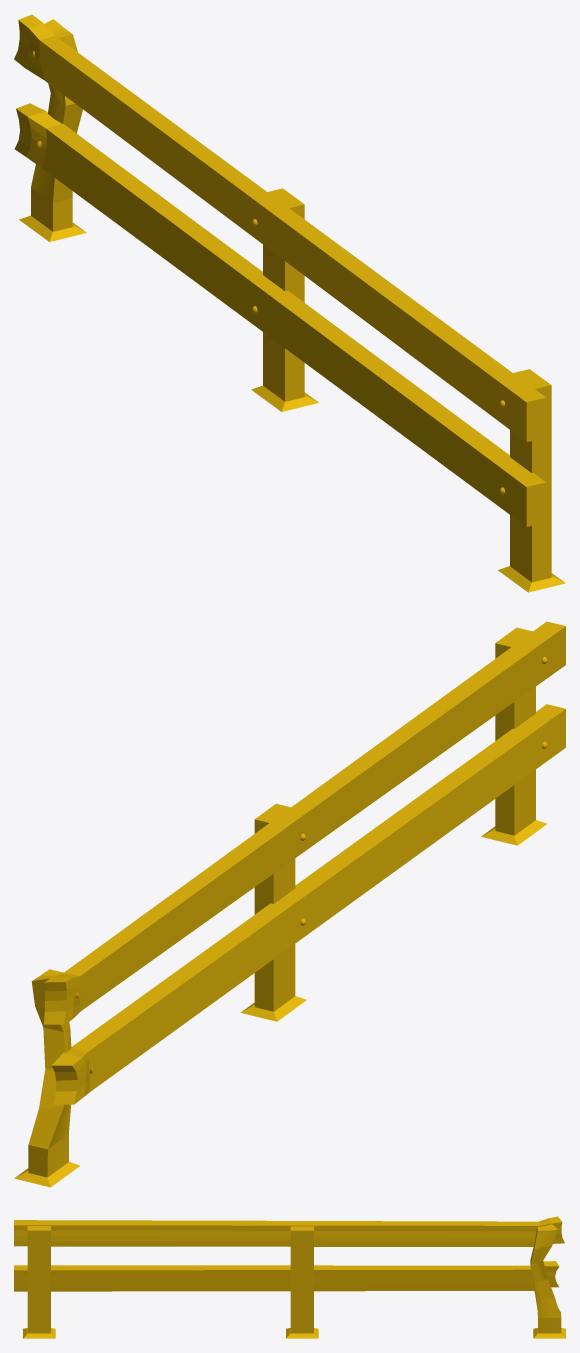
The model's file is SideWoodblendBent (1).fbx.
3 renders of one model, top to bottom at view 1: azimuth 30°, elevation 25°; view 2: azimuth 150°, elevation 25°; view 3: azimuth 270°, elevation 25°, orthographic. The views are drawn at different scales.
Visible parts, largest first — view 1: WoodenSide; view 2: WoodenSide; view 3: WoodenSide.
Part boxes in pixels (x1,y1,x2,y2): WoodenSide: (14,14,565,592); WoodenSide: (14,621,565,1187); WoodenSide: (14,1216,565,1338).
Size of the model in its own units: 29.04 by 111 by 503.
